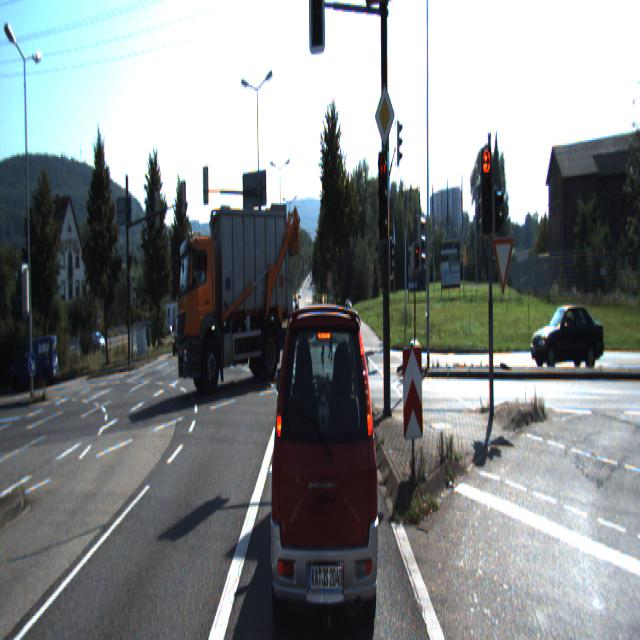Car: (267, 280, 382, 638), (178, 204, 302, 398), (530, 298, 605, 374), (10, 336, 60, 398), (195, 316, 215, 350), (172, 321, 192, 355), (219, 309, 239, 343)
